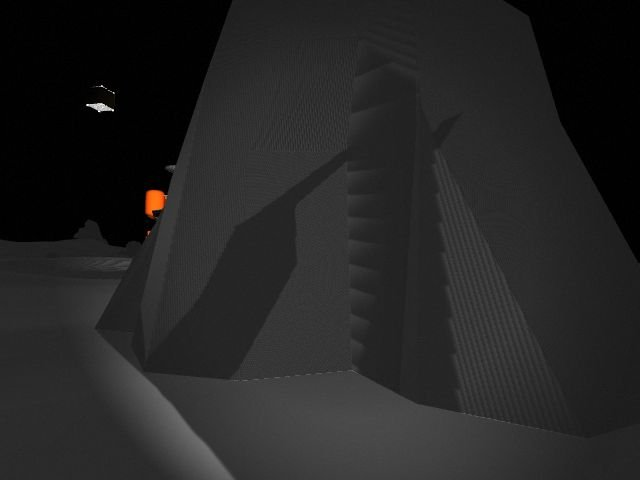cubesat: (79, 79, 124, 118)
